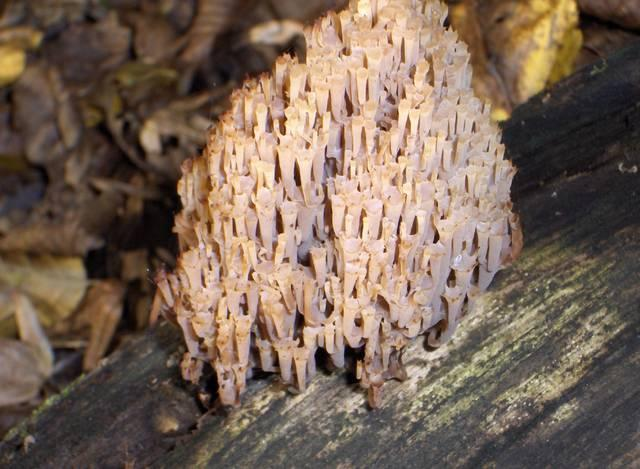edible_mushroom: (148, 0, 525, 411)
